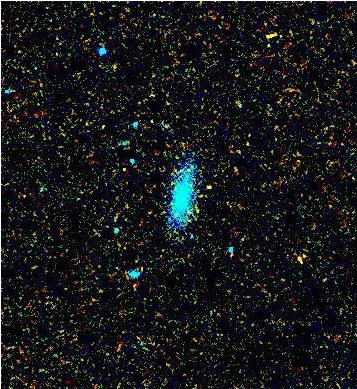star: (194, 171, 224, 201)
